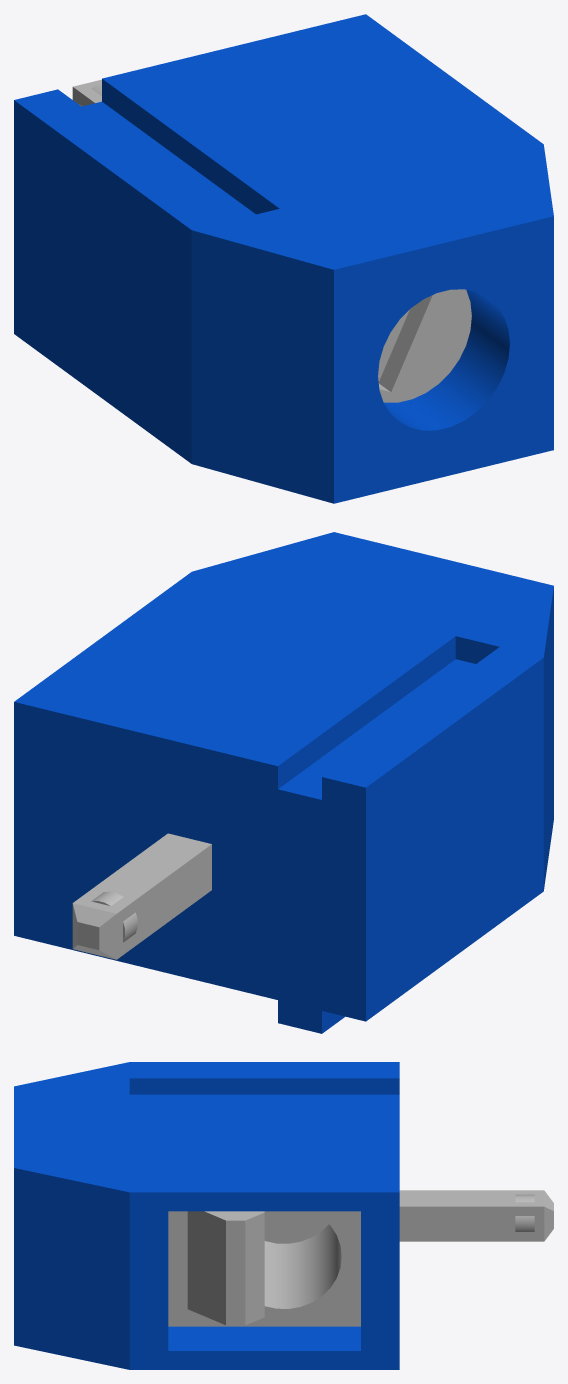
The model's file is Schraubklemme_Blau_300V_16A.obj.
3 views of the same model, one above another, from view 1: azimuth 30°, elevation 25°; view 2: azimuth 150°, elevation 25°; view 3: azimuth 270°, elevation 25° (orthographic). The views are drawn at different scales.
Parts seen in each view (by area): view 1: Volumenkörper2; view 2: Volumenkörper2; view 3: Volumenkörper2.
Boxes of the visible parts, x1,y1,x2,y2 form: Volumenkörper2: (14, 14, 553, 503); Volumenkörper2: (14, 532, 553, 1033); Volumenkörper2: (14, 1062, 553, 1369).
Bounding box in the file's own units: 8 × 5.58 × 14.
